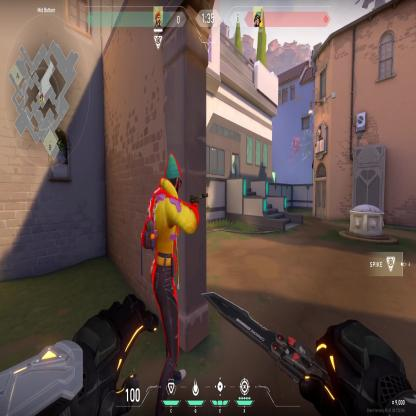enemy: (140, 150, 200, 381)
